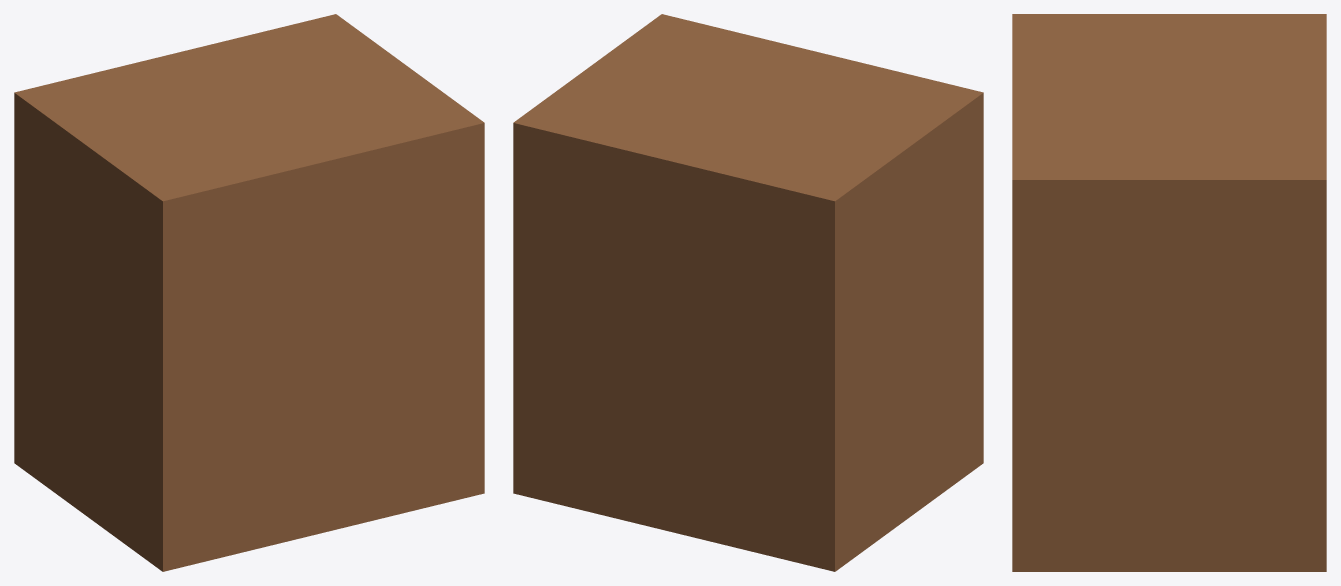
The model's file is lake-khum-shallows-1.glb.
3 renders of one model, left to right at view 1: azimuth 30°, elevation 25°; view 2: azimuth 150°, elevation 25°; view 3: azimuth 270°, elevation 25°, orthographic. The views are drawn at different scales.
Visible parts, largest first — view 1: jar; view 2: jar; view 3: jar.
Boxes of the visible parts, x1,y1,x2,y2 form: jar: [14, 14, 484, 571]; jar: [513, 14, 983, 571]; jar: [1012, 14, 1326, 571].
Bounding box in the file's own units: 0.9 × 0.99 × 0.72.
